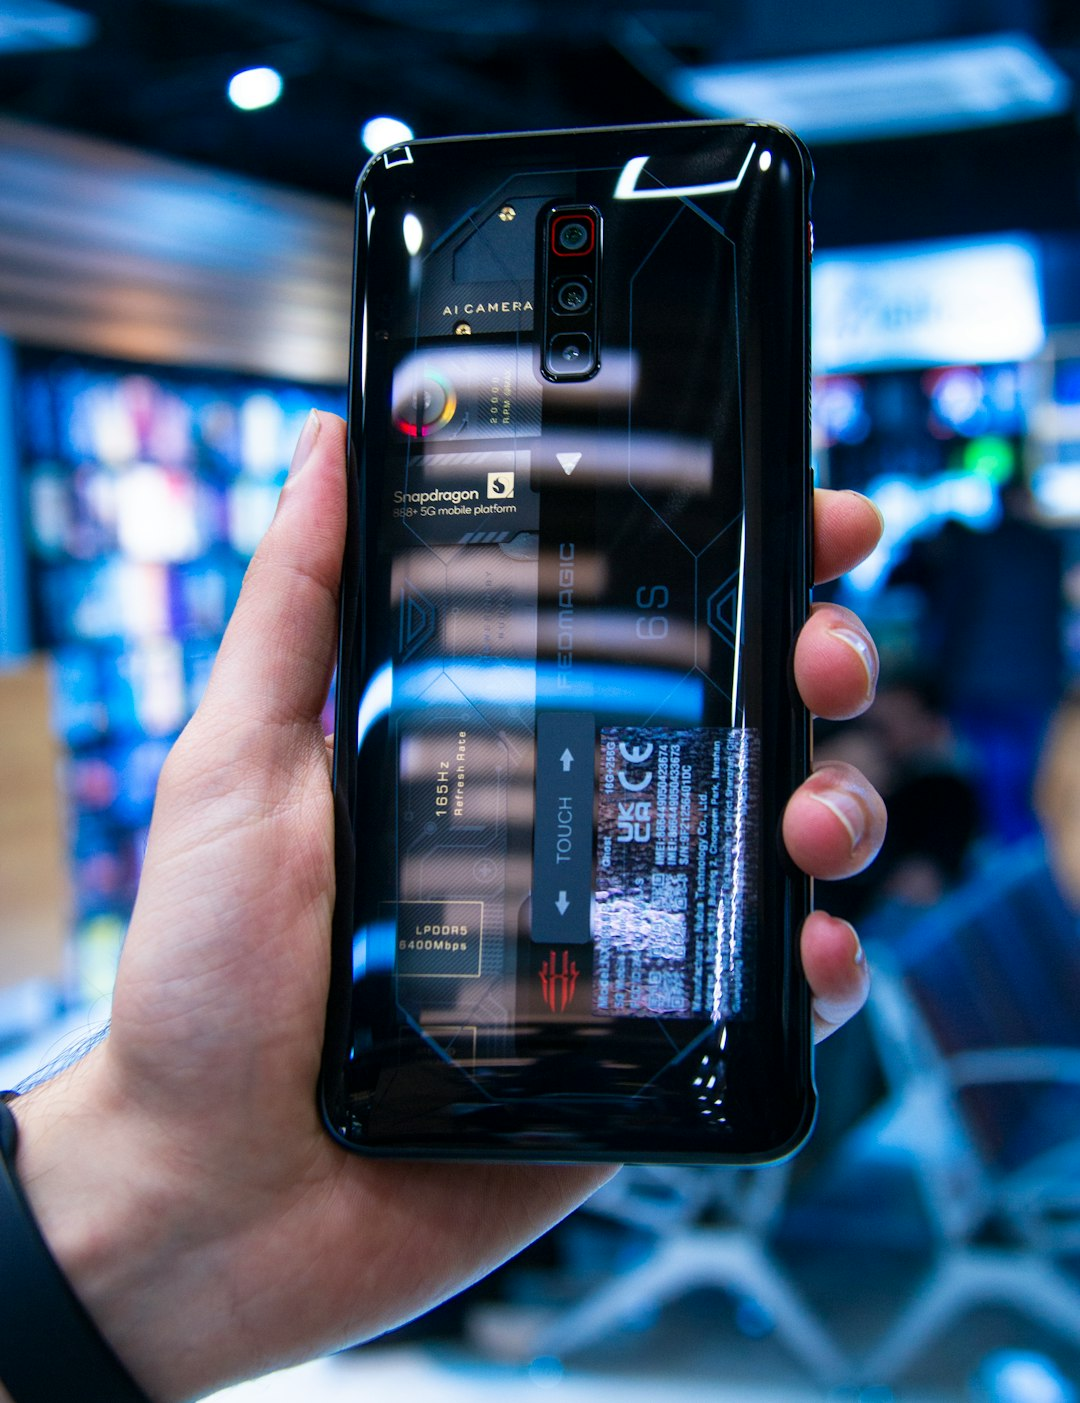phone: (311, 105, 821, 1167)
